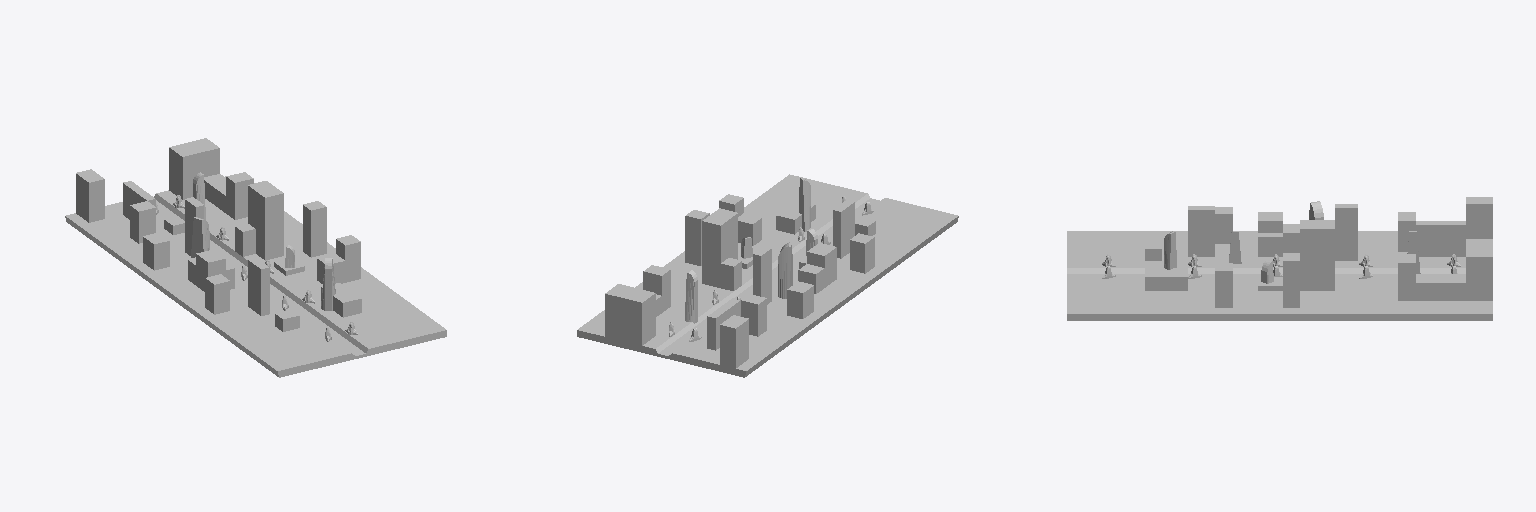
File: Lev1.obj
3 views of the same model, side by side, from view 1: azimuth 30°, elevation 25°; view 2: azimuth 150°, elevation 25°; view 3: azimuth 270°, elevation 25° (orthographic).
Parts seen in each view (by area): view 1: Level1:polySurface1; view 2: Level1:polySurface1; view 3: Level1:polySurface1.
Part boxes in pixels (left/top/right/bottom): Level1:polySurface1: left=65, top=138, right=446, bottom=377; Level1:polySurface1: left=577, top=174, right=958, bottom=377; Level1:polySurface1: left=1067, top=197, right=1492, bottom=320.
Size of the model in its own units: 844 by 437 by 1834.